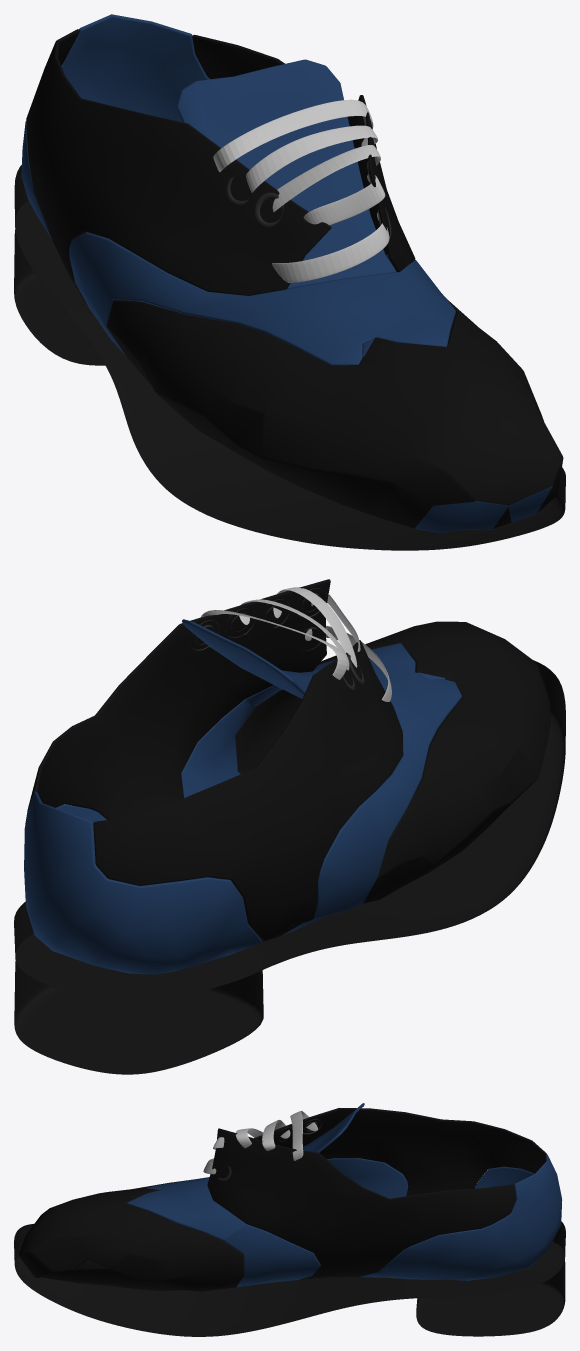
File: za2pri2derecha.fbx
3 views of the same model, one above another, from view 1: azimuth 30°, elevation 25°; view 2: azimuth 150°, elevation 25°; view 3: azimuth 270°, elevation 25° (orthographic). The views are drawn at different scales.
Parts seen in each view (by area): view 1: zapato2, Plane, Plane.004, Plane.005, Plane.003, Plane.001, Plane.002; view 2: zapato2, Plane, Plane.001, Plane.004; view 3: zapato2, Plane, Plane.004, Plane.003, Plane.001.
Boxes of the visible parts, left/top/right/bottom form: zapato2: left=21, top=14, right=563, bottom=532; Plane: left=14, top=165, right=565, bottom=550; Plane.004: left=213, top=99, right=373, bottom=171; Plane.005: left=272, top=212, right=389, bottom=282; Plane.003: left=246, top=125, right=377, bottom=192; Plane.001: left=272, top=145, right=380, bottom=211; Plane.002: left=303, top=174, right=385, bottom=225; zapato2: left=24, top=579, right=550, bottom=974; Plane: left=14, top=660, right=565, bottom=1074; Plane.001: left=273, top=587, right=357, bottom=667; Plane.004: left=200, top=610, right=347, bottom=679; zapato2: left=18, top=1103, right=562, bottom=1291; Plane: left=14, top=1221, right=565, bottom=1336; Plane.004: left=290, top=1110, right=317, bottom=1160; Plane.003: left=262, top=1119, right=290, bottom=1150; Plane.001: left=235, top=1128, right=262, bottom=1148.
Size of the model in its own units: 169 by 176 by 447.
